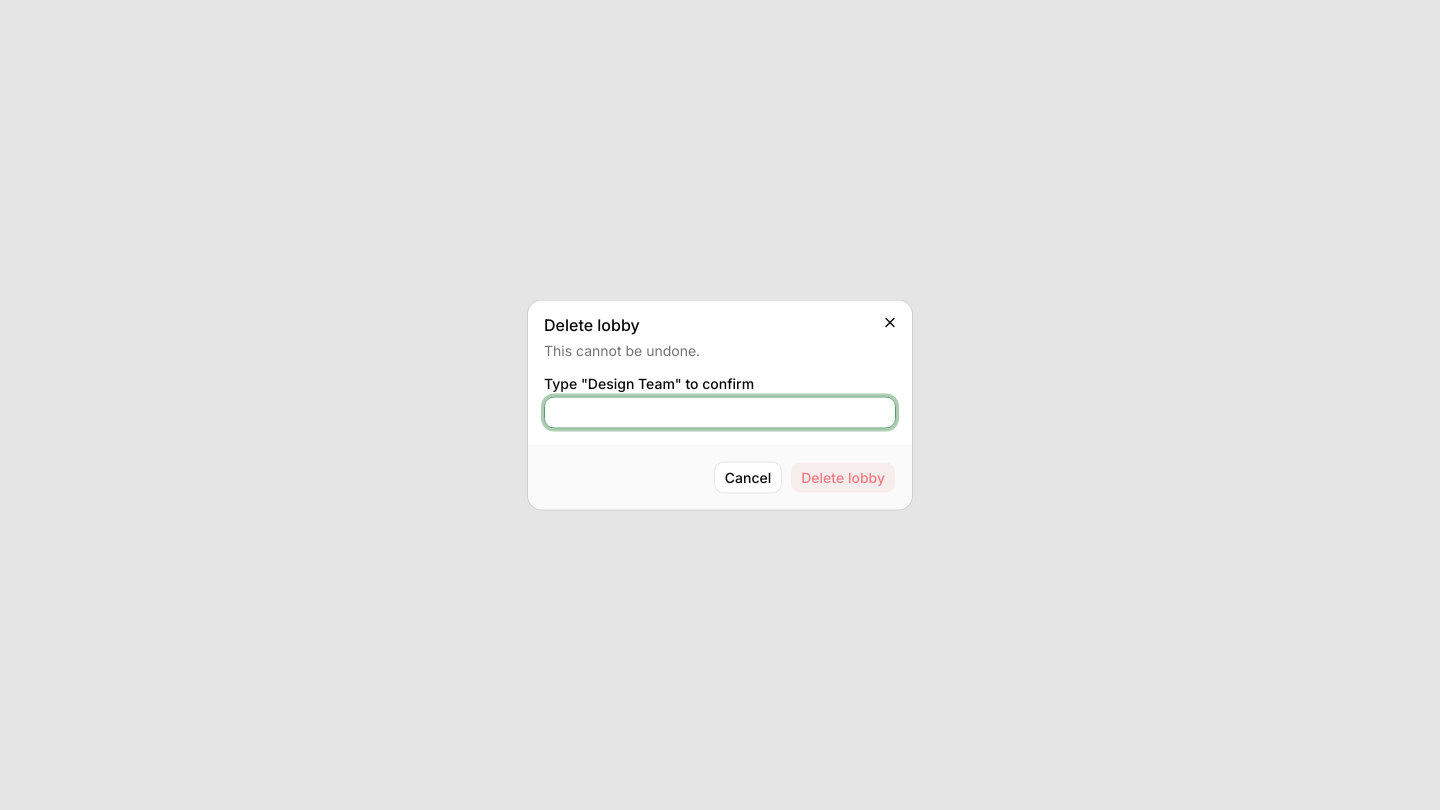
Test case: ConfirmDialog › disables the confirm button until the typed confirmation text matches exactly
expect the button "Delete lobby" is disabled: met, box [790,462,896,494]
Type "Design" into the field labelled "Type \"Design Team\" to confirm" at [720, 412], box [544,396,896,428]
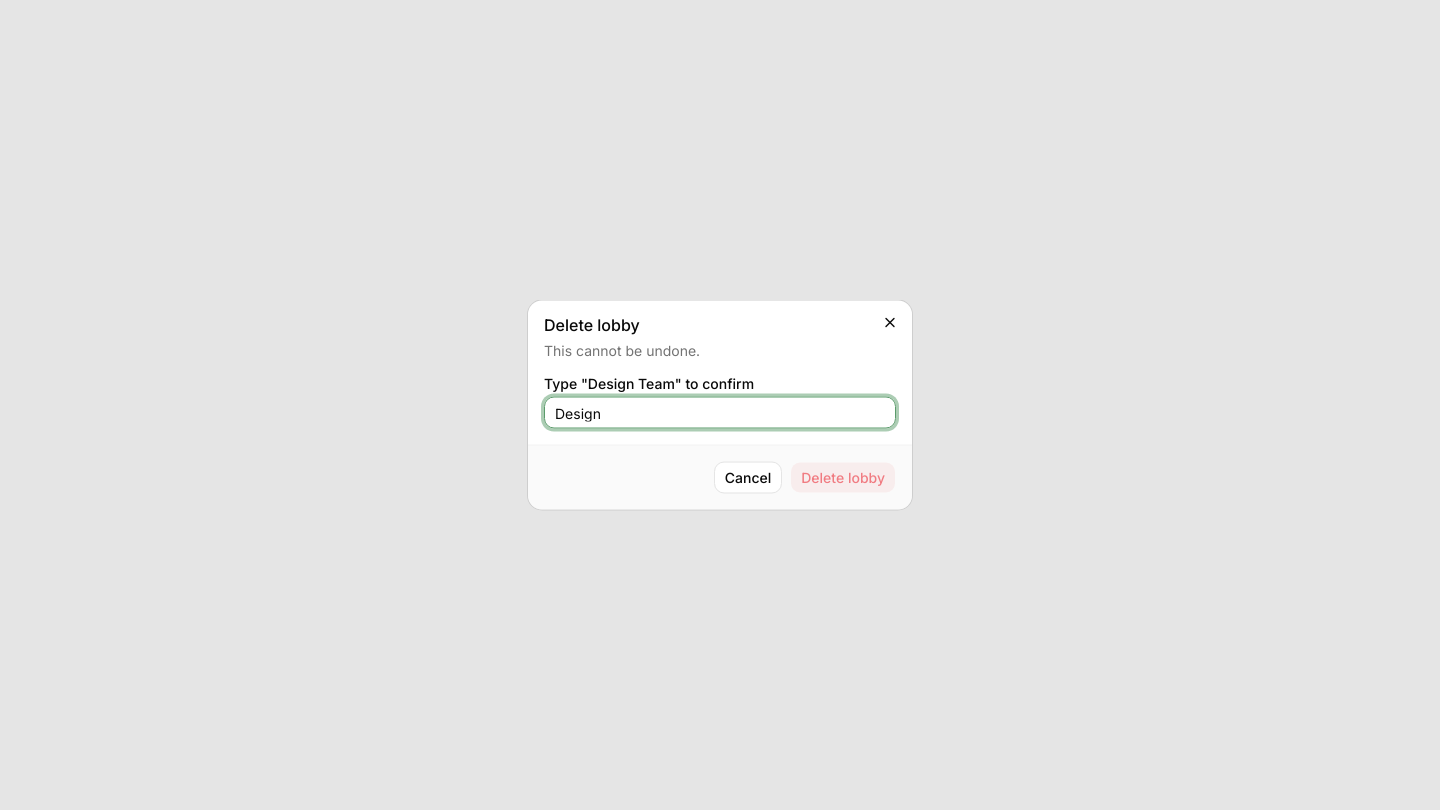
expect the button "Delete lobby" is disabled: met, box [790,462,896,494]
Type " Team" into the field labelled "Type \"Design Team\" to confirm" at [720, 412], box [544,396,896,428]
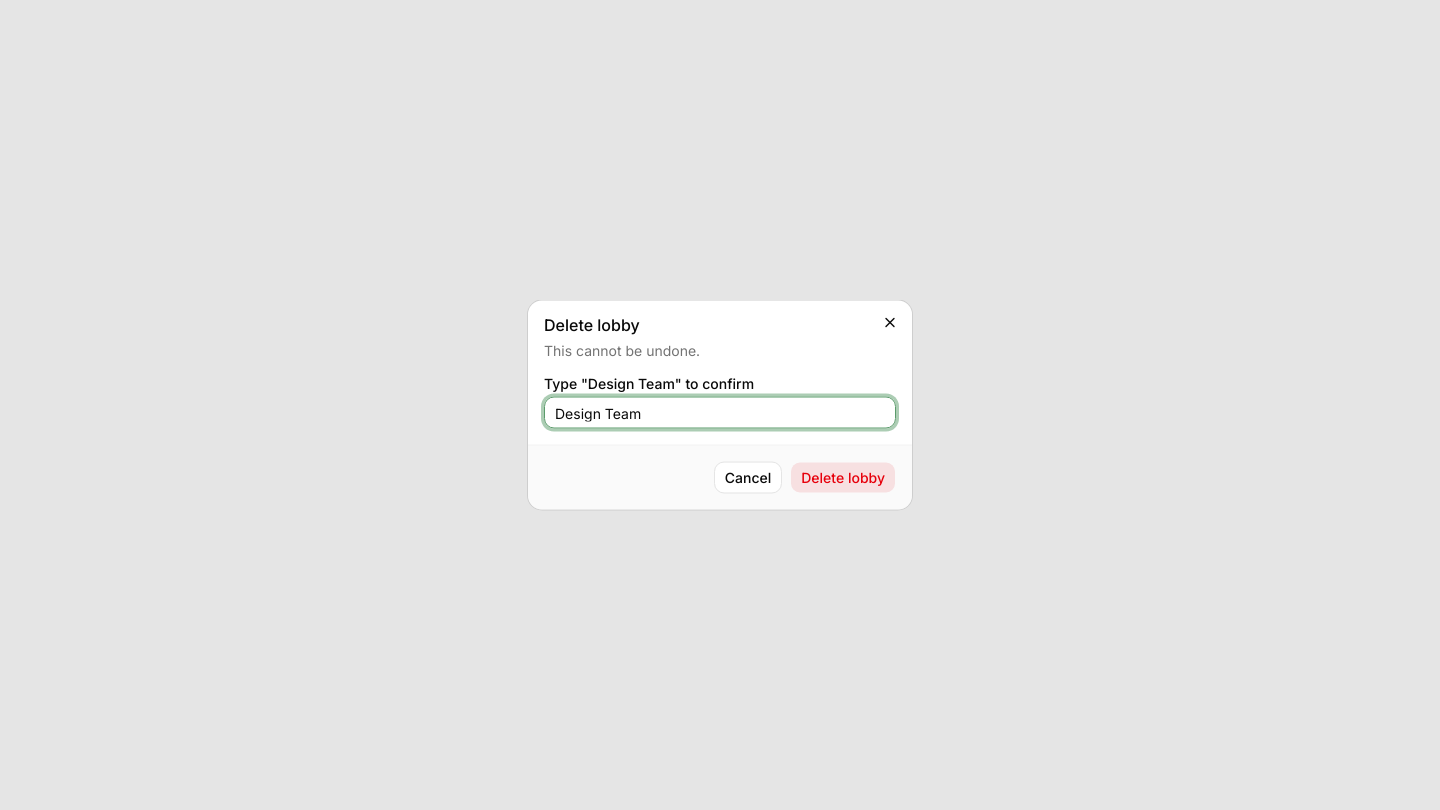
expect the button "Delete lobby" is enabled: met, box [790,462,896,494]
